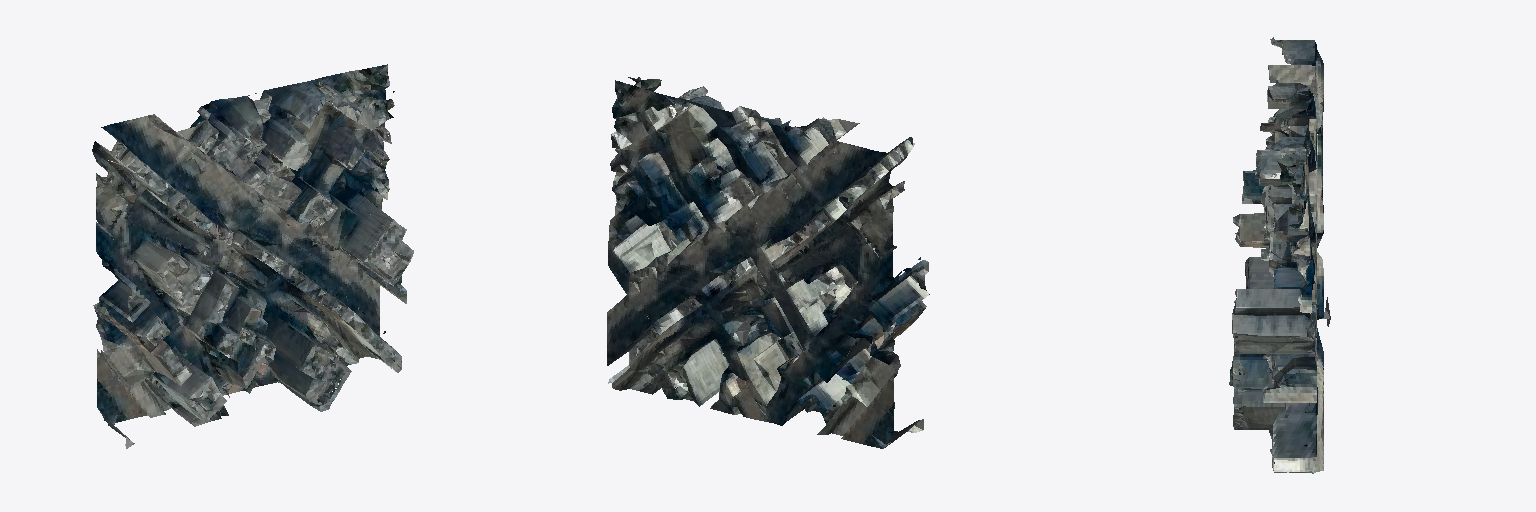
3 renders of one model, left to right at view 1: azimuth 30°, elevation 25°; view 2: azimuth 150°, elevation 25°; view 3: azimuth 270°, elevation 25°, orthographic.
Parts seen in each view (by area): view 1: Tile_173078_LD_010_019_L15.osgb__Geometry_0; view 2: Tile_173078_LD_010_019_L15.osgb__Geometry_0; view 3: Tile_173078_LD_010_019_L15.osgb__Geometry_0.
Boxes of the visible parts, x1,y1,x2,y2 form: Tile_173078_LD_010_019_L15.osgb__Geometry_0: [92, 64, 413, 448]; Tile_173078_LD_010_019_L15.osgb__Geometry_0: [607, 77, 929, 448]; Tile_173078_LD_010_019_L15.osgb__Geometry_0: [1229, 37, 1330, 473].
Bounding box in the file's own units: 255 × 255 × 78.83.
Materials: 1 (1 with a texture image).